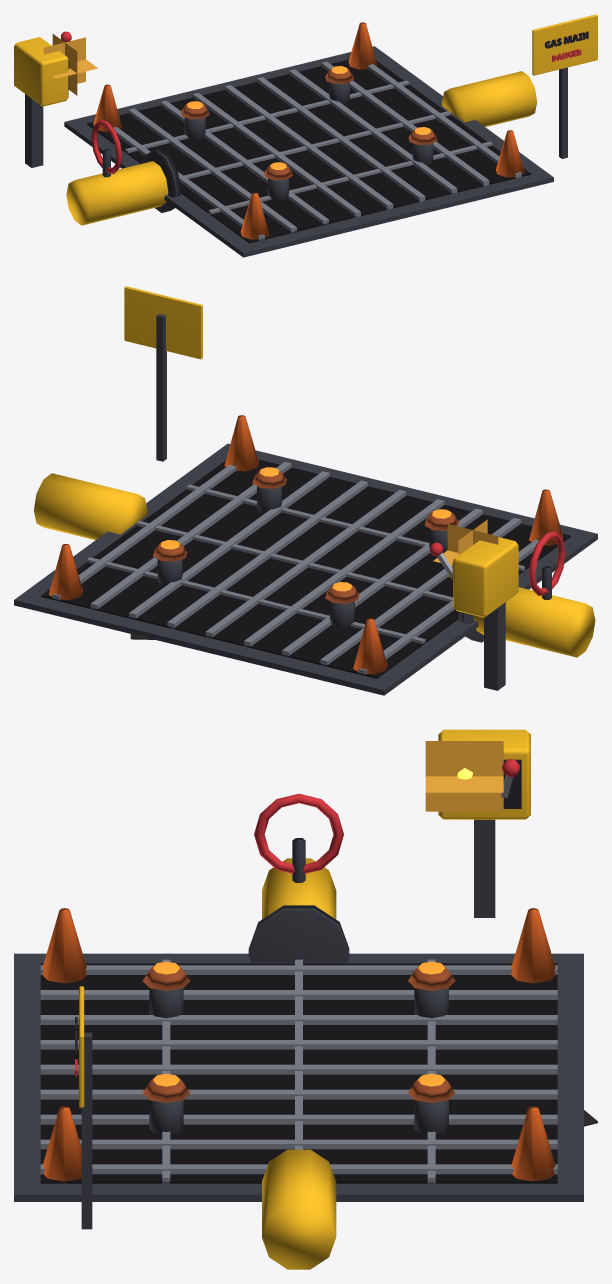
The model's file is city_trap_fire.glb.
The picture shows the model from 3 angles, top to bottom: view 1: azimuth 30°, elevation 25°; view 2: azimuth 150°, elevation 25°; view 3: azimuth 270°, elevation 25°; orthographic projection. The views are drawn at different scales.
Parts seen in each view (by area): view 1: TrapFire; view 2: TrapFire; view 3: TrapFire.
Part boxes in pixels (bbox=[...]): TrapFire: bbox=[14, 14, 597, 257]; TrapFire: bbox=[14, 286, 597, 695]; TrapFire: bbox=[14, 729, 597, 1269].
Bounding box in the file's own units: 6.25 × 2.04 × 4.4.
